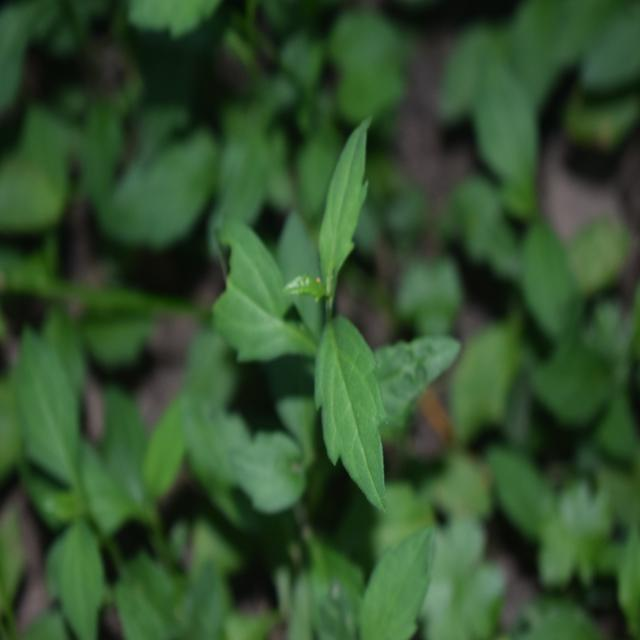Indian aster: (230, 139, 409, 478)
